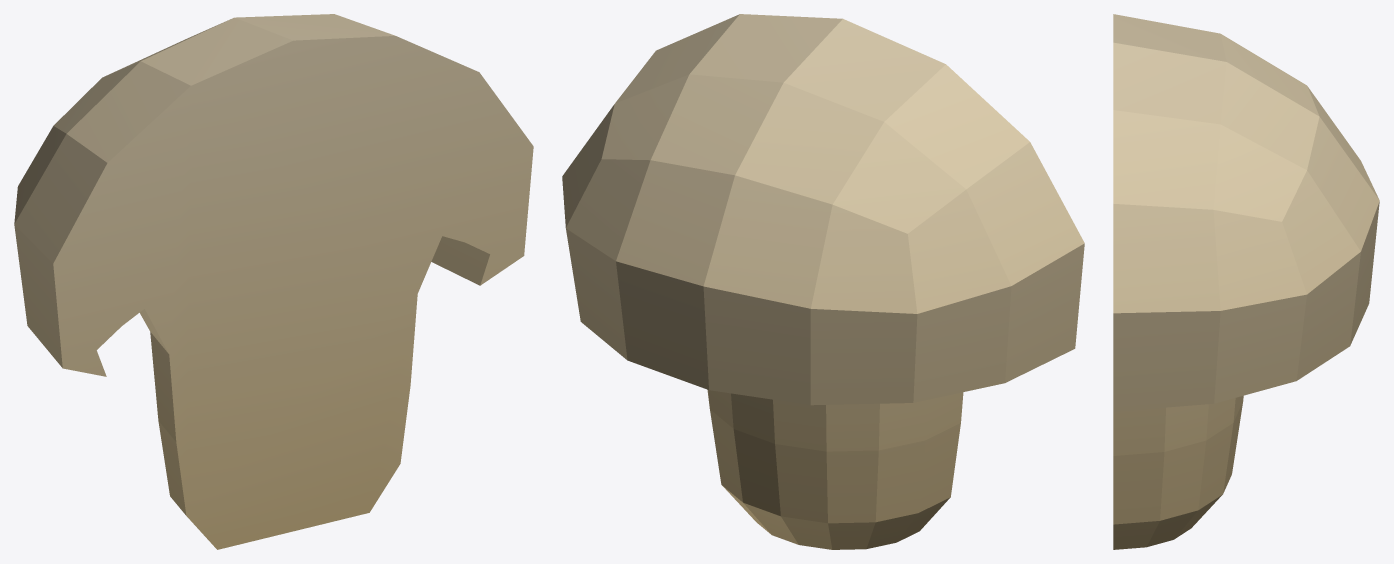
The model's file is mushroom_1b.glb.
3 renders of one model, left to right at view 1: azimuth 30°, elevation 25°; view 2: azimuth 150°, elevation 25°; view 3: azimuth 270°, elevation 25°, orthographic. The views are drawn at different scales.
Visible parts, largest first — view 1: mushroom_1b; view 2: mushroom_1b; view 3: mushroom_1b.
Part boxes in pixels (left/top/right/bottom): mushroom_1b: left=14, top=14, right=533, bottom=549; mushroom_1b: left=562, top=14, right=1084, bottom=549; mushroom_1b: left=1113, top=14, right=1379, bottom=549.
Size of the model in its own units: 0.0617 by 0.0602 by 0.0309.
1 material, 1 textured.
